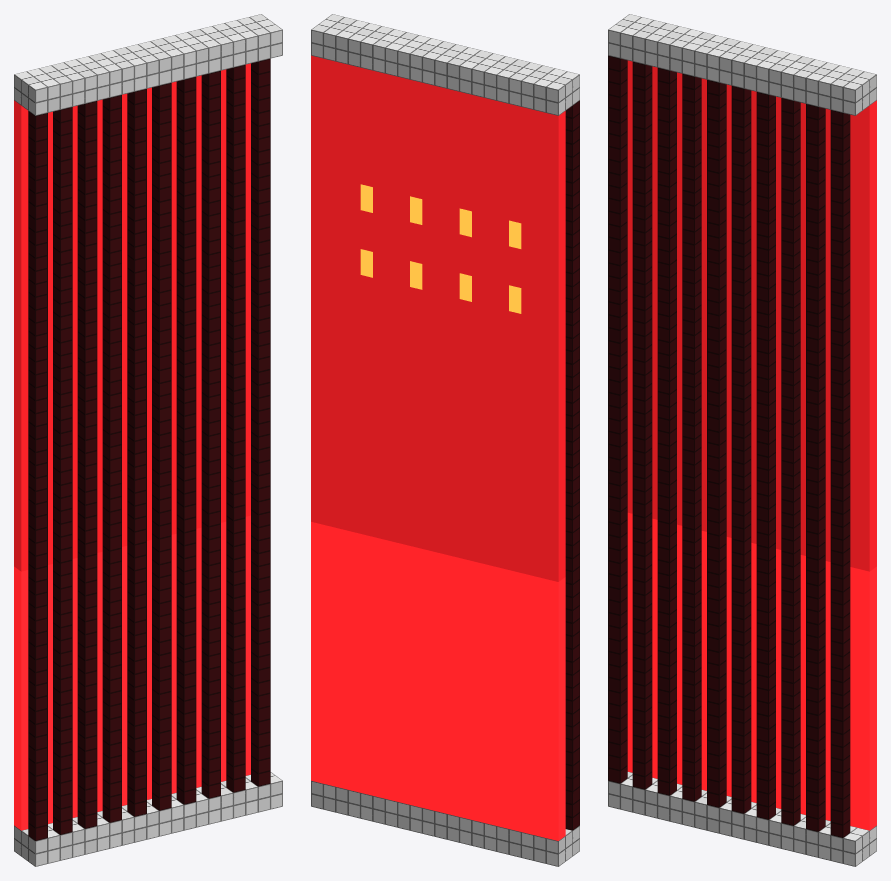
The model's file is slatted_backdrop_edge.glb.
3 views of the same model, side by side, from view 1: azimuth 30°, elevation 25°; view 2: azimuth 150°, elevation 25°; view 3: azimuth 330°, elevation 25° (orthographic).
Parts seen in each view (by area): view 1: slatted_backdrop_edge; view 2: slatted_backdrop_edge; view 3: slatted_backdrop_edge.
Part boxes in pixels (x1,y1,x2,y2): slatted_backdrop_edge: [14, 14, 282, 866]; slatted_backdrop_edge: [311, 14, 579, 866]; slatted_backdrop_edge: [608, 14, 876, 866].
Size of the model in its own units: 1 by 3 by 0.15.
5 materials, 2 textured.
